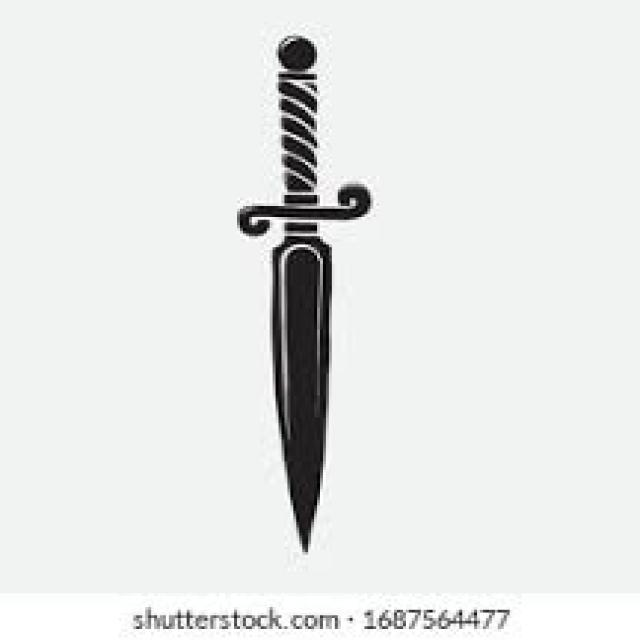Gun: (206, 5, 412, 589)
